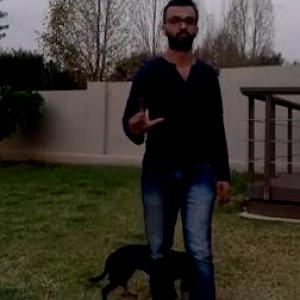land_hand: (118, 91, 168, 140)
